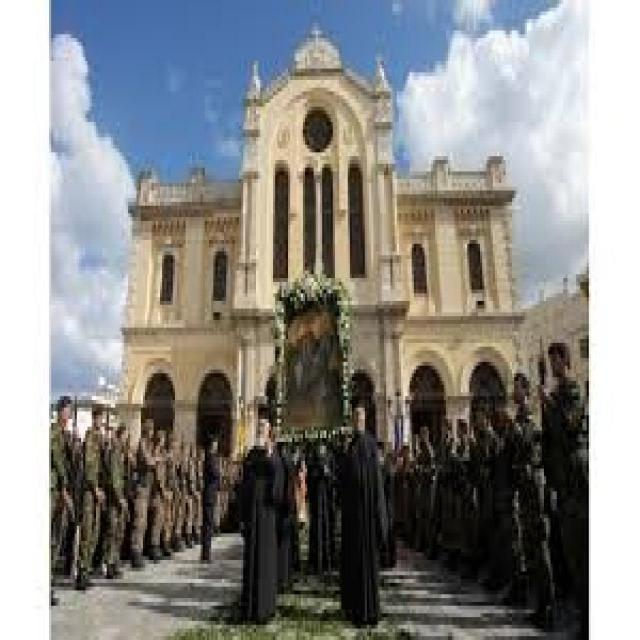Agios Minas: (118, 22, 530, 538)
